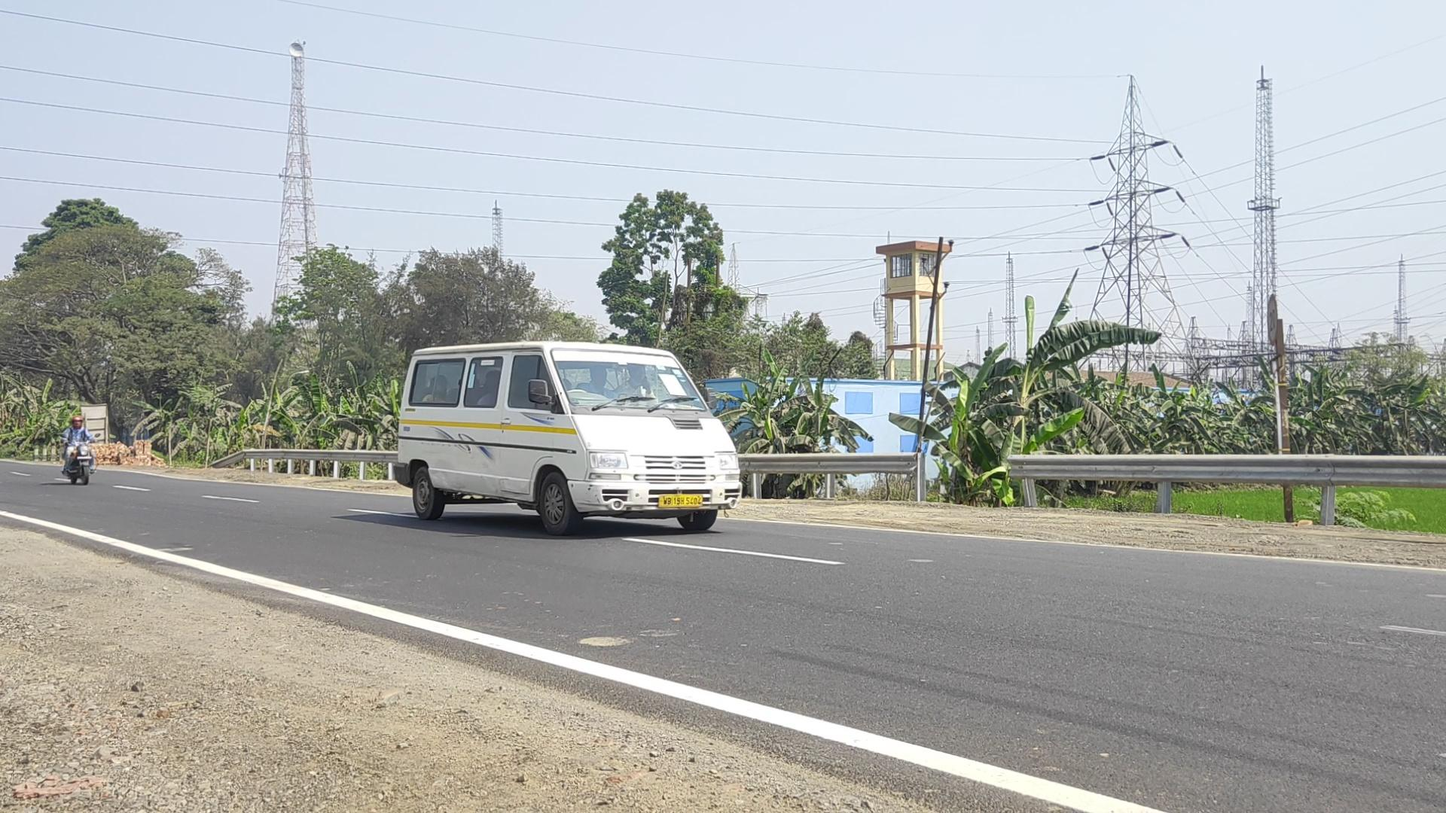bike: (59, 415, 101, 485)
van: (394, 340, 743, 534)
